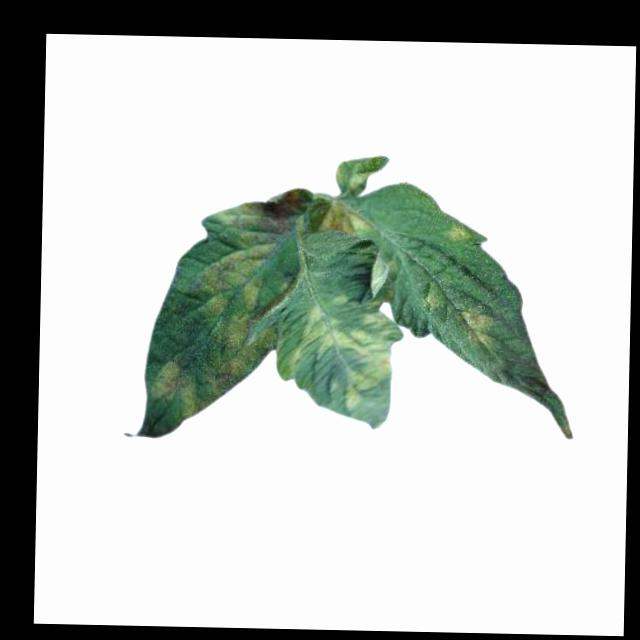Leaf_Mold: (154, 185, 304, 419), (301, 294, 394, 406), (451, 309, 497, 350), (320, 201, 369, 237), (442, 226, 469, 246)
